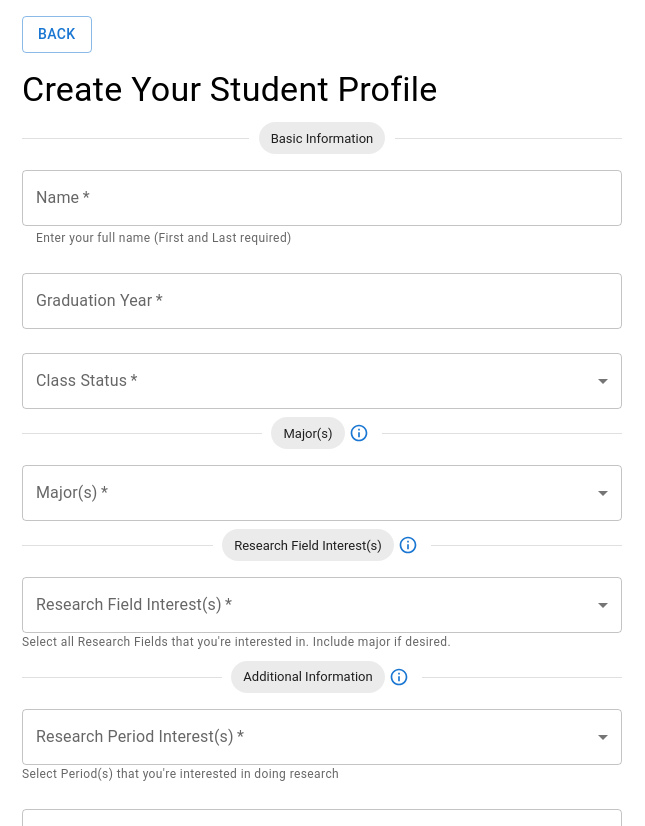
Test: StudentProfileForm › allows multiple selection in Major multi-select dropdown
Open dropdown and select "Computer Science"
Click the 2nd dropdown named "Major(s)": (322, 493) [22,465,622,521]
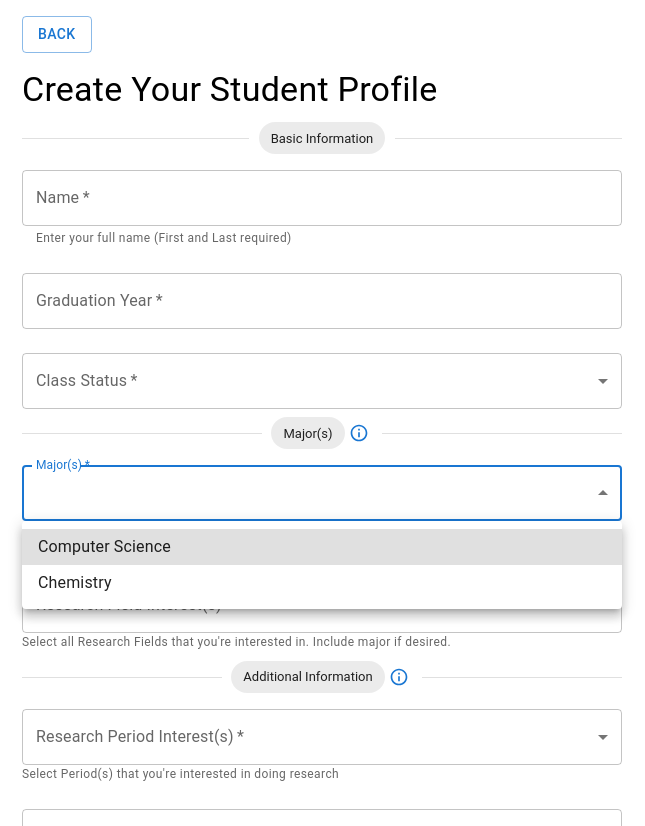
Click the option "Computer Science": (104, 546) [22,529,622,565]
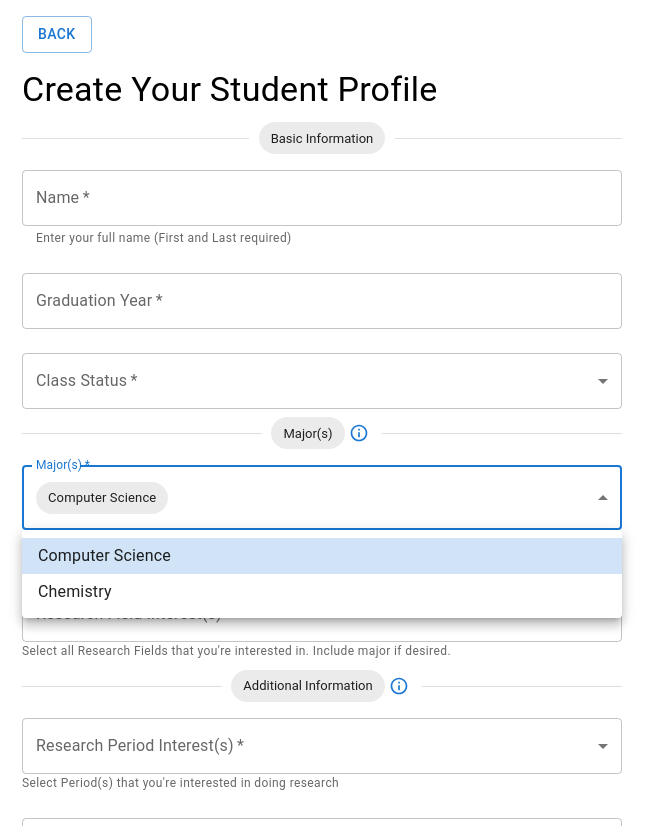
Result: the text "Computer Science" is shown at [48,490,156,505]
